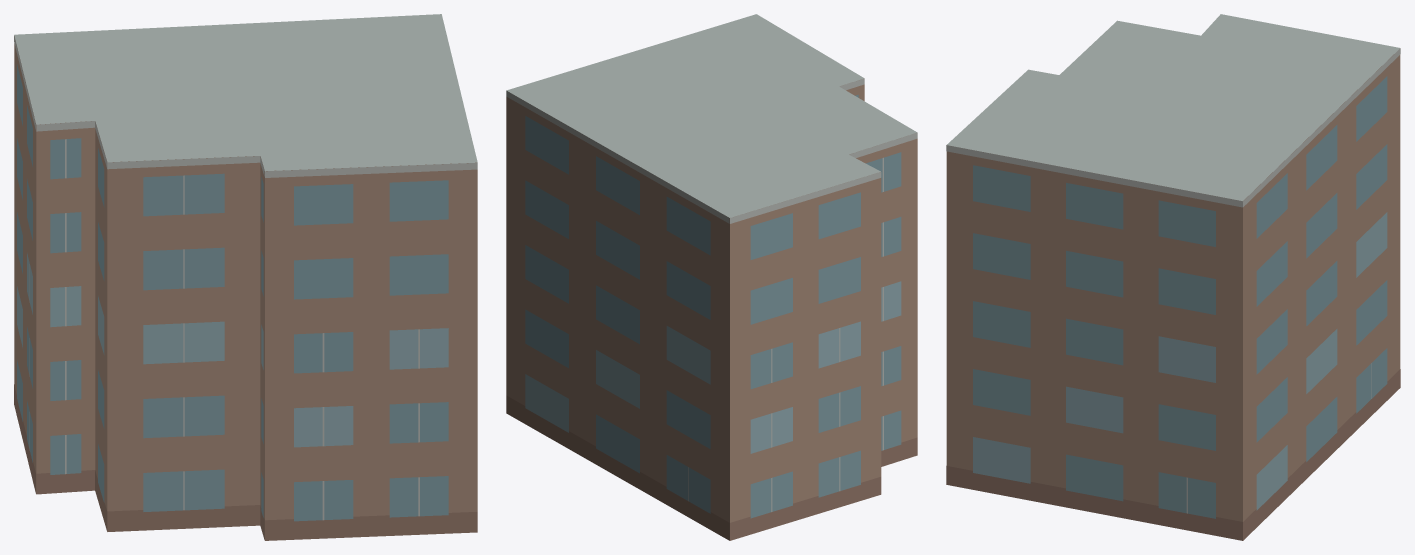
File: survey-upis-32834667.glb
3 renders of one model, left to right at view 1: azimuth 30°, elevation 25°; view 2: azimuth 150°, elevation 25°; view 3: azimuth 270°, elevation 25°, orthographic. The views are drawn at different scales.
Visible parts, largest first — view 1: survey-upis-32834667.tmp; view 2: survey-upis-32834667.tmp; view 3: survey-upis-32834667.tmp.
Part boxes in pixels (bbox=[...]): survey-upis-32834667.tmp: bbox=[14, 14, 477, 540]; survey-upis-32834667.tmp: bbox=[506, 14, 917, 540]; survey-upis-32834667.tmp: bbox=[946, 14, 1400, 540].
Bounding box in the file's own units: 15.49 × 13.1 × 15.88.
